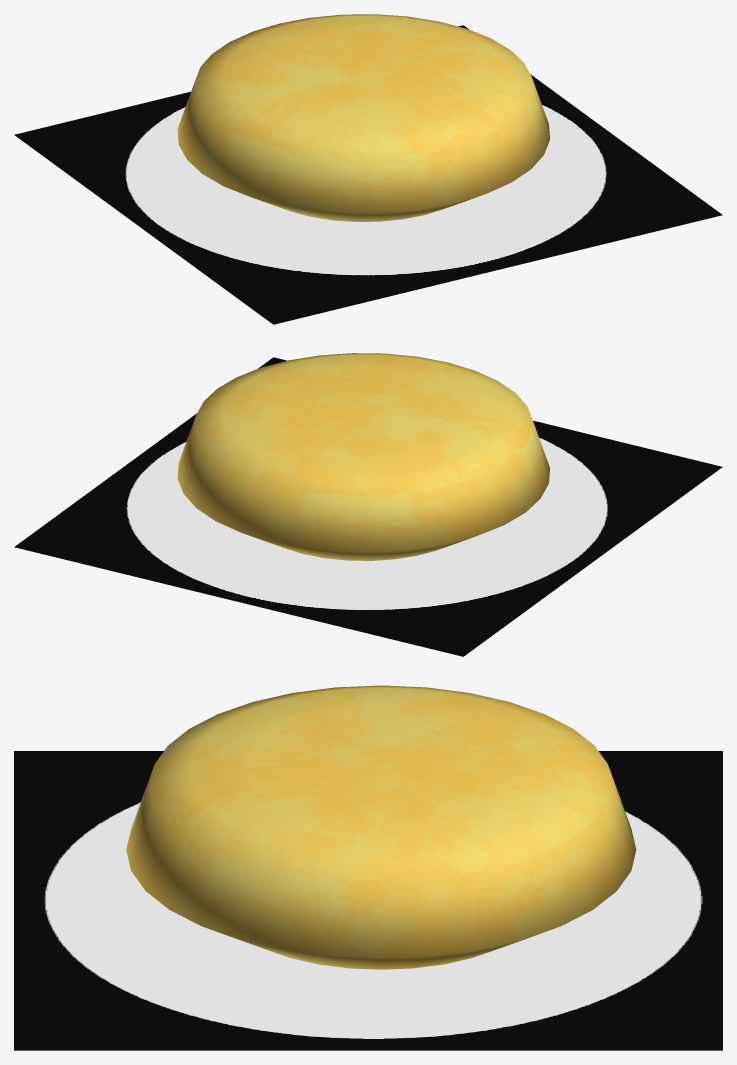
The model's file is island_base.fbx.
3 views of the same model, one above another, from view 1: azimuth 30°, elevation 25°; view 2: azimuth 150°, elevation 25°; view 3: azimuth 270°, elevation 25° (orthographic). The views are drawn at different scales.
Visible parts, largest first — view 1: Plane, Cylinder; view 2: Cylinder, Plane; view 3: Plane, Cylinder.
Part boxes in pixels (bbox=[...]): Plane: bbox=[14, 25, 722, 324]; Cylinder: bbox=[177, 14, 549, 221]; Cylinder: bbox=[177, 353, 549, 560]; Plane: bbox=[14, 357, 722, 656]; Plane: bbox=[14, 751, 722, 1050]; Cylinder: bbox=[126, 685, 636, 969].
Bounding box in the file's own units: 3975 × 969 × 3975.
